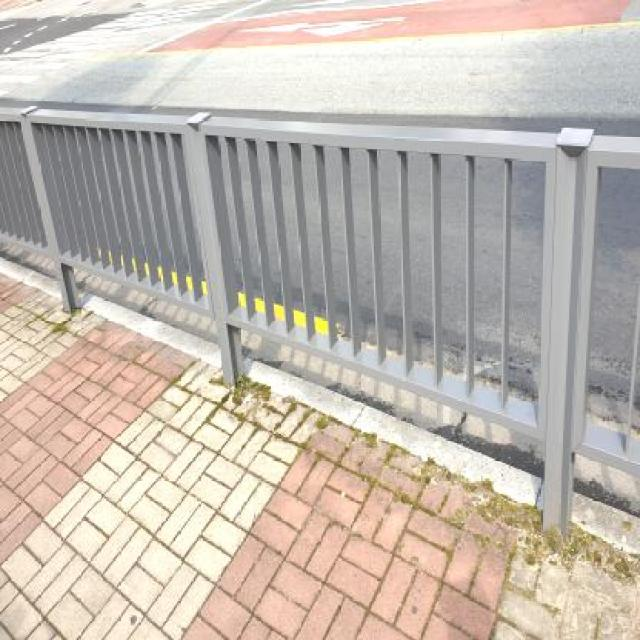fence: (173, 57, 640, 562), (15, 49, 273, 413)
